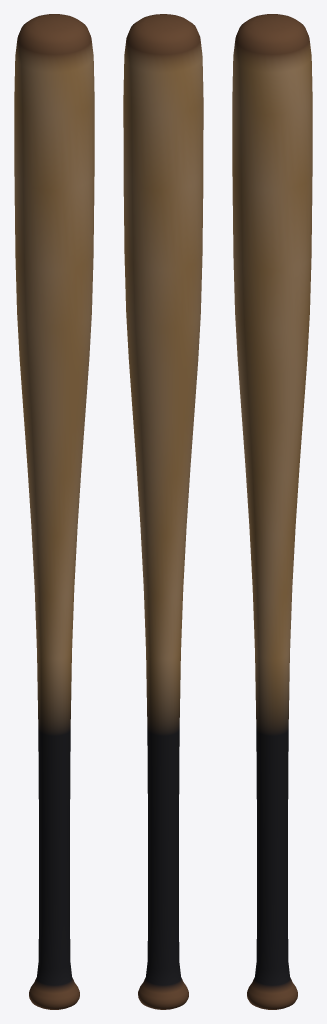
Rendered from bat.glb.
3 views of the same model, side by side, from view 1: azimuth 90°, elevation 25°; view 2: azimuth 210°, elevation 25°; view 3: azimuth 270°, elevation 25° (orthographic).
Parts seen in each view (by area): view 1: bat; view 2: bat; view 3: bat.
Boxes of the visible parts, bbox=[...] form: bat: bbox=[14, 14, 94, 1009]; bat: bbox=[123, 14, 203, 1009]; bat: bbox=[232, 14, 312, 1009].
Size of the model in its own units: 0.0637 by 0.8592 by 0.0637.
